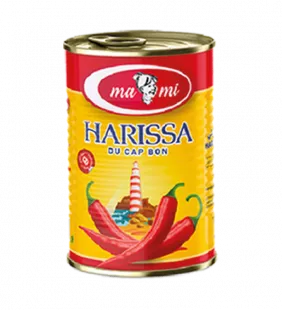Promotion: (52, 20, 228, 292)
